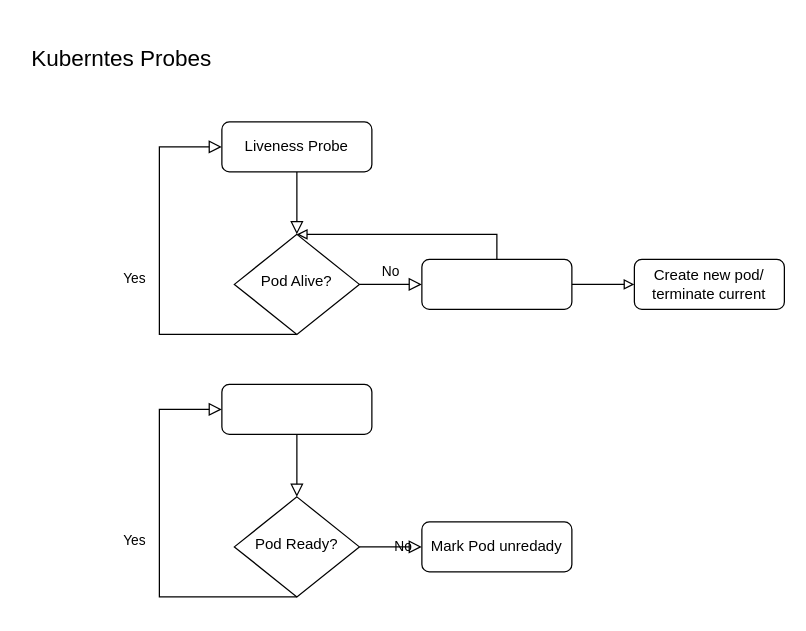
Some shapes in this 806 by 631 pixel diagram are drawn without their labels. Here are the shapes that lost their labels. From the top down, the centre of each, then its label:
At (496,283): "Retry x".
At (296,408): "Readiness Probe".
